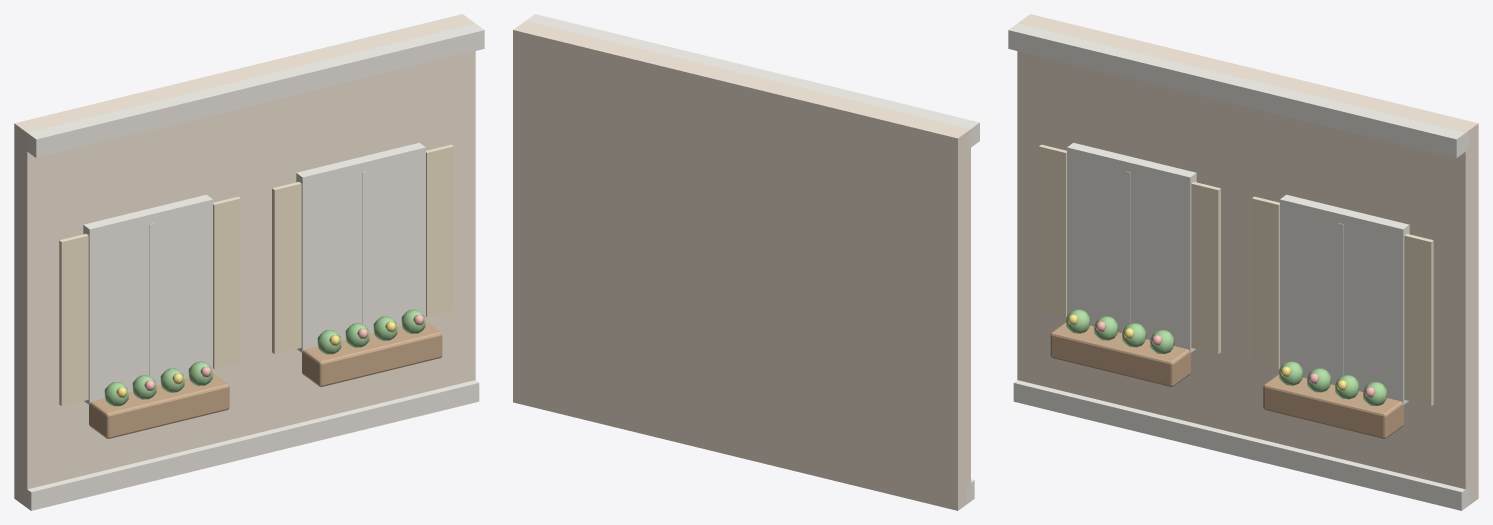
Rendered from fachada_janela.glb.
3 views of the same model, side by side, from view 1: azimuth 30°, elevation 25°; view 2: azimuth 150°, elevation 25°; view 3: azimuth 330°, elevation 25° (orthographic).
Parts seen in each view (by area): view 1: fachada_janela; view 2: fachada_janela; view 3: fachada_janela.
Part boxes in pixels (box(x1,y1,x2,y2)): fachada_janela: box(14, 14, 484, 510); fachada_janela: box(513, 14, 979, 510); fachada_janela: box(1008, 14, 1478, 510).
Bounding box in the file's own units: 4 × 3.2 × 0.57.
